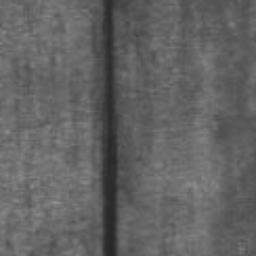Scratches: (99, 0, 118, 256)
